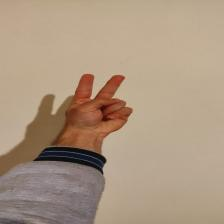two: (56, 71, 136, 139)
